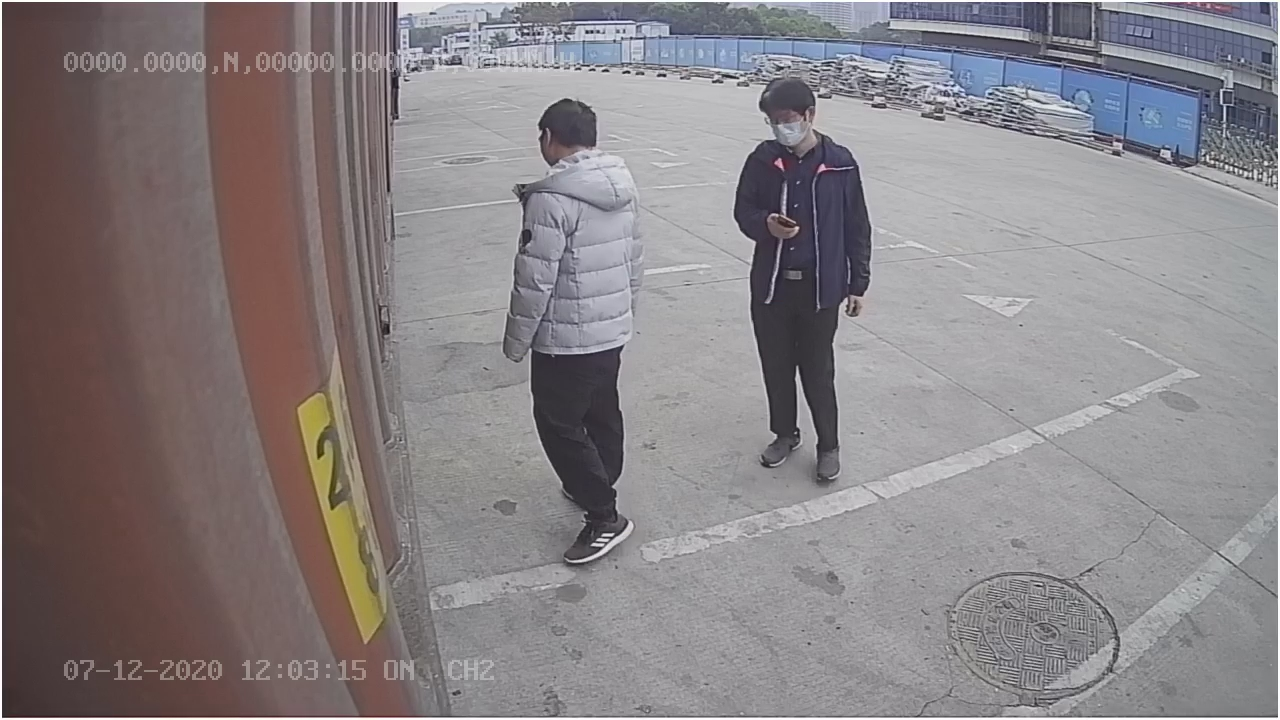person: (494, 94, 644, 562), (728, 77, 875, 484)
